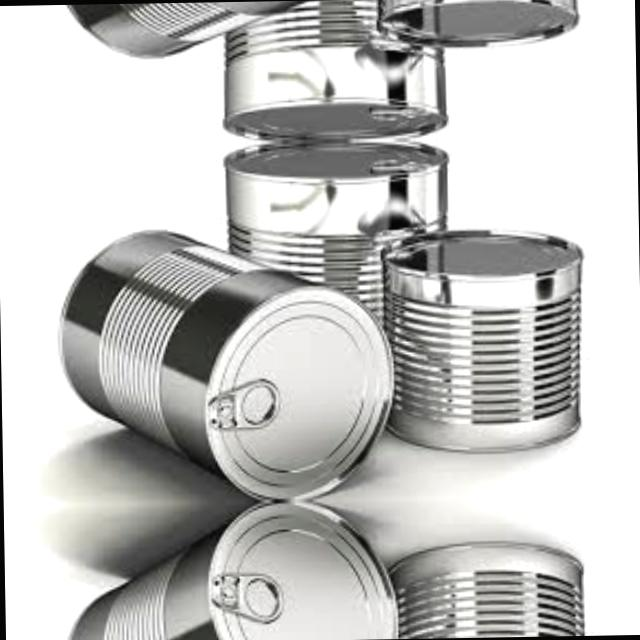Metal: (55, 222, 400, 504), (60, 498, 402, 640), (378, 224, 588, 454), (223, 138, 452, 330), (220, 0, 448, 141), (51, 0, 392, 61), (384, 539, 592, 639), (374, 0, 581, 50)
